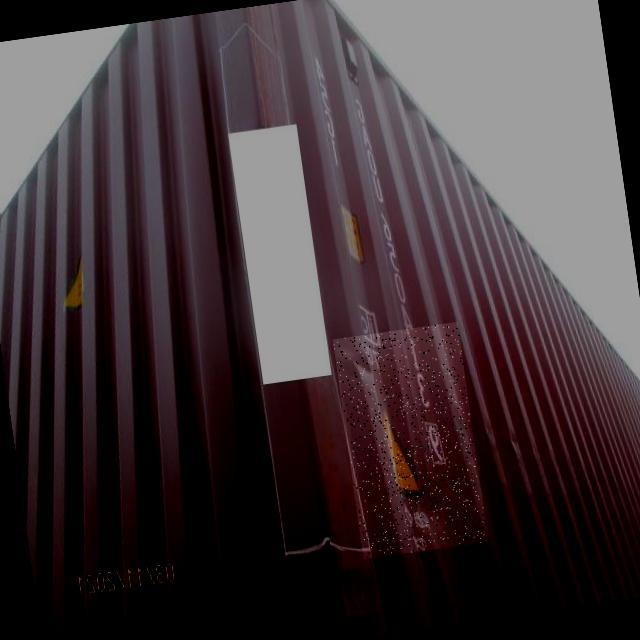Dent: (333, 322, 489, 559)
